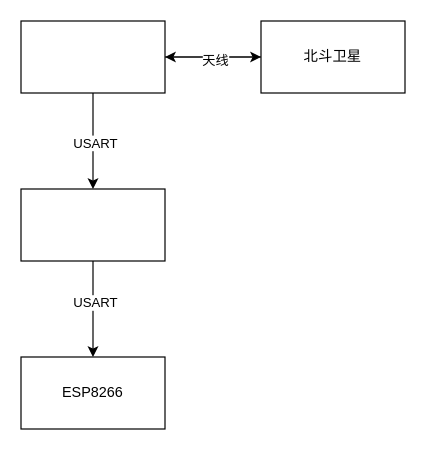
Image size: 426x450. Some labels were removed from this diagram. Here are the shapes that lost their labels. From the top down, the centre of each, then its label:
[92,56]: 北斗定位模块
[92,224]: STM32F407
